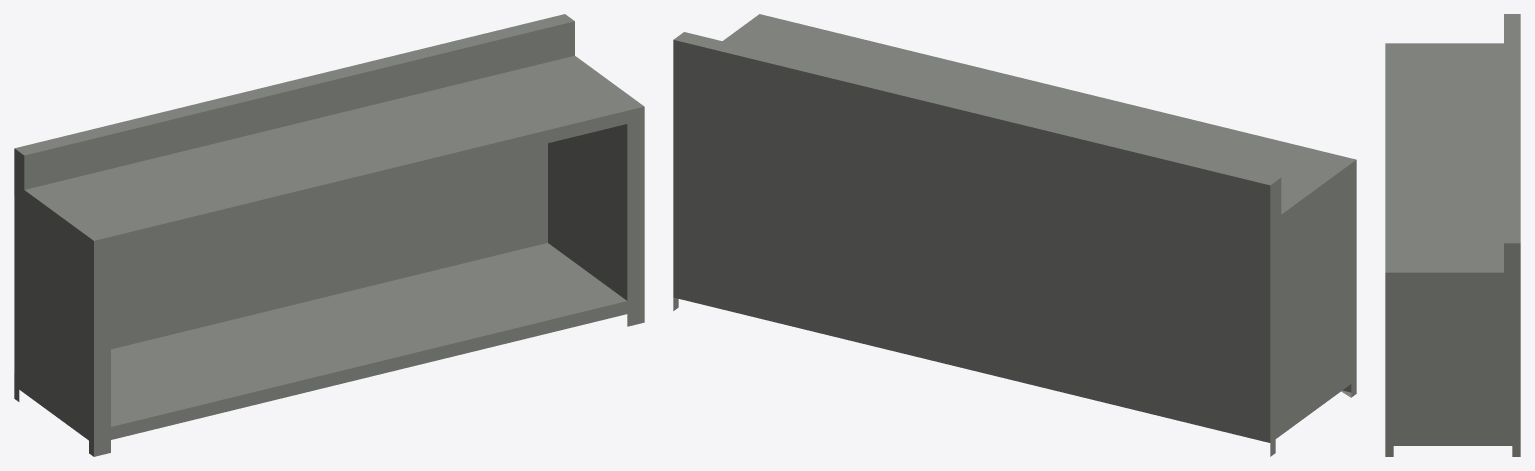
The model's file is mesa1.obj.
The picture shows the model from 3 angles, left to right: view 1: azimuth 30°, elevation 25°; view 2: azimuth 150°, elevation 25°; view 3: azimuth 270°, elevation 25°; orthographic projection. The views are drawn at different scales.
Visible parts, largest first — view 1: Cubo.001_Cubo.003; view 2: Cubo.001_Cubo.003; view 3: Cubo.001_Cubo.003.
Part boxes in pixels (x1,y1,x2,y2): Cubo.001_Cubo.003: (14, 14, 644, 456); Cubo.001_Cubo.003: (673, 14, 1356, 456); Cubo.001_Cubo.003: (1385, 14, 1520, 456).
Size of the model in its own units: 4 by 1.74 by 1.
